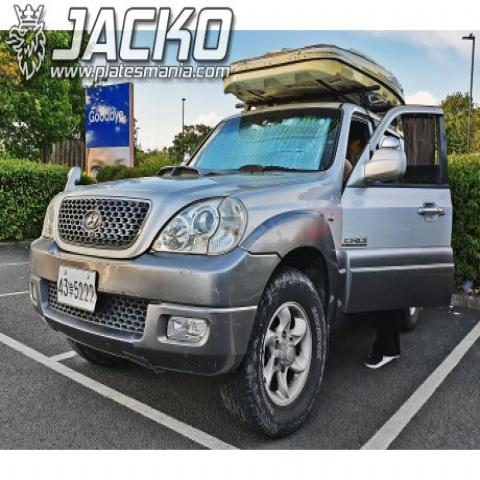LP: (54, 258, 104, 322)
